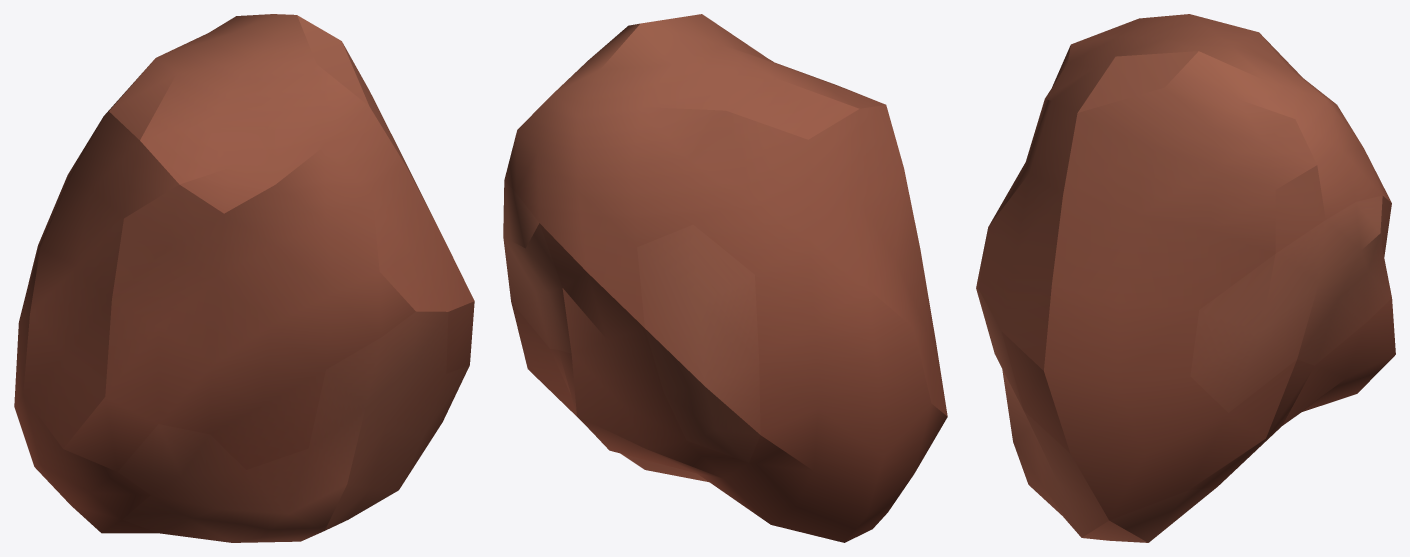
Rendered from Rock_3_P_Color2.fbx.
The picture shows the model from 3 angles, left to right: view 1: azimuth 30°, elevation 25°; view 2: azimuth 150°, elevation 25°; view 3: azimuth 270°, elevation 25°; orthographic projection. The views are drawn at different scales.
Visible parts, largest first — view 1: Rock_3_P_Color2; view 2: Rock_3_P_Color2; view 3: Rock_3_P_Color2.
Boxes of the visible parts, x1,y1,x2,y2 form: Rock_3_P_Color2: [14, 14, 474, 542]; Rock_3_P_Color2: [503, 14, 947, 542]; Rock_3_P_Color2: [976, 14, 1395, 542].
Size of the model in its own units: 3.29 by 3.68 by 2.87.
